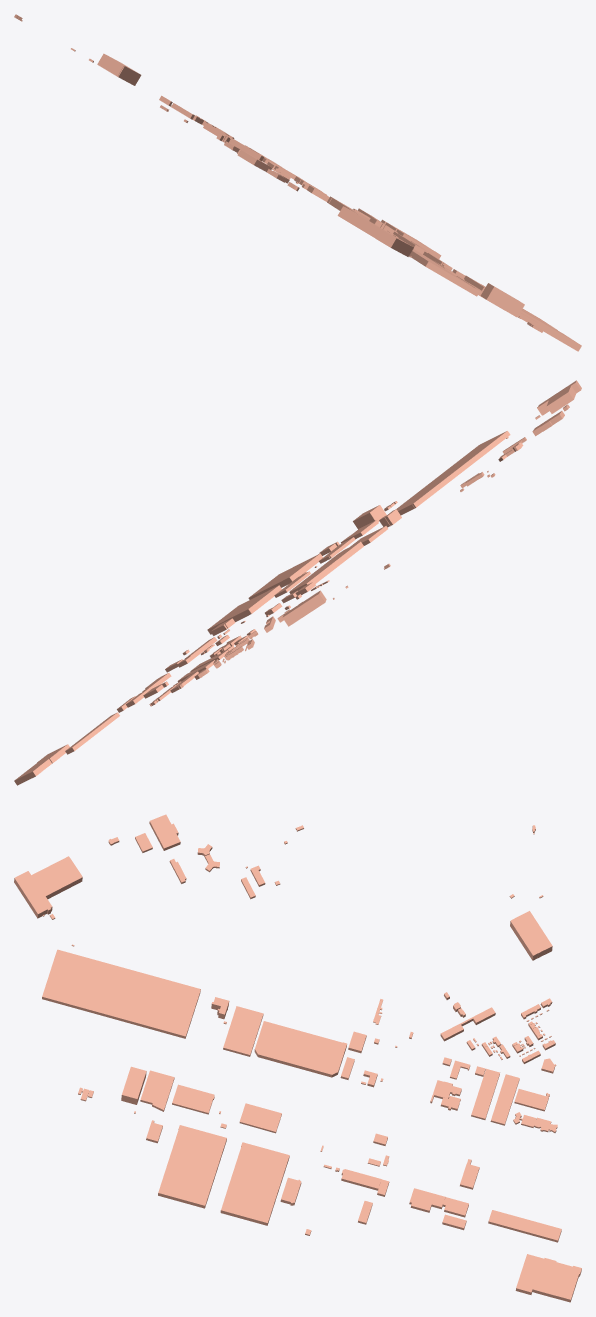
3 renders of one model, top to bottom at view 1: azimuth 30°, elevation 25°; view 2: azimuth 150°, elevation 25°; view 3: azimuth 270°, elevation 25°, orthographic. The views are drawn at different scales.
Size of the model in its own units: 938 by 776 by 1260.
